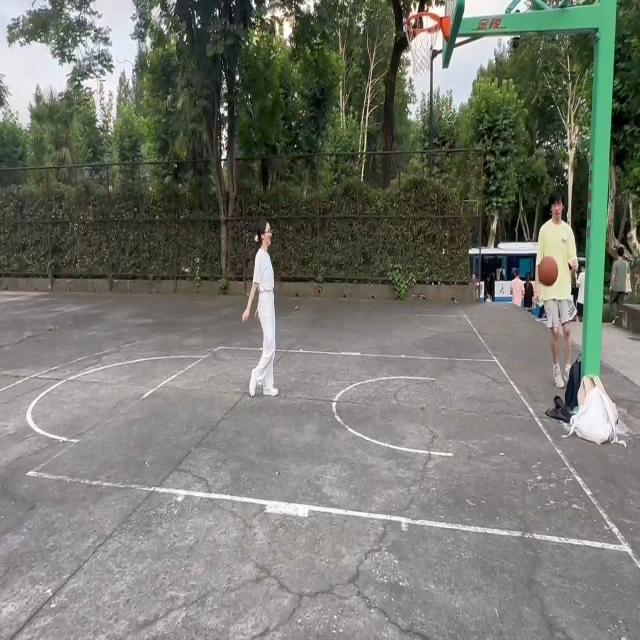basketball: (405, 6, 448, 71)
rim: (537, 257, 557, 289)
